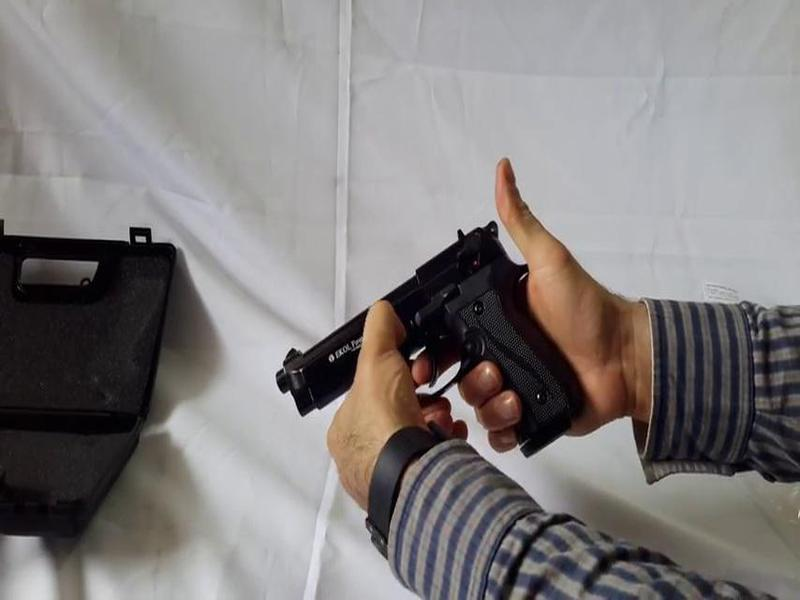Pistola: (241, 236, 564, 468)
